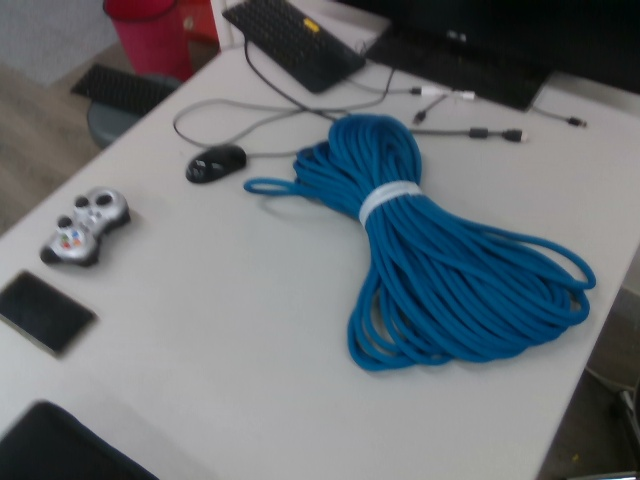rope: (242, 110, 607, 374)
